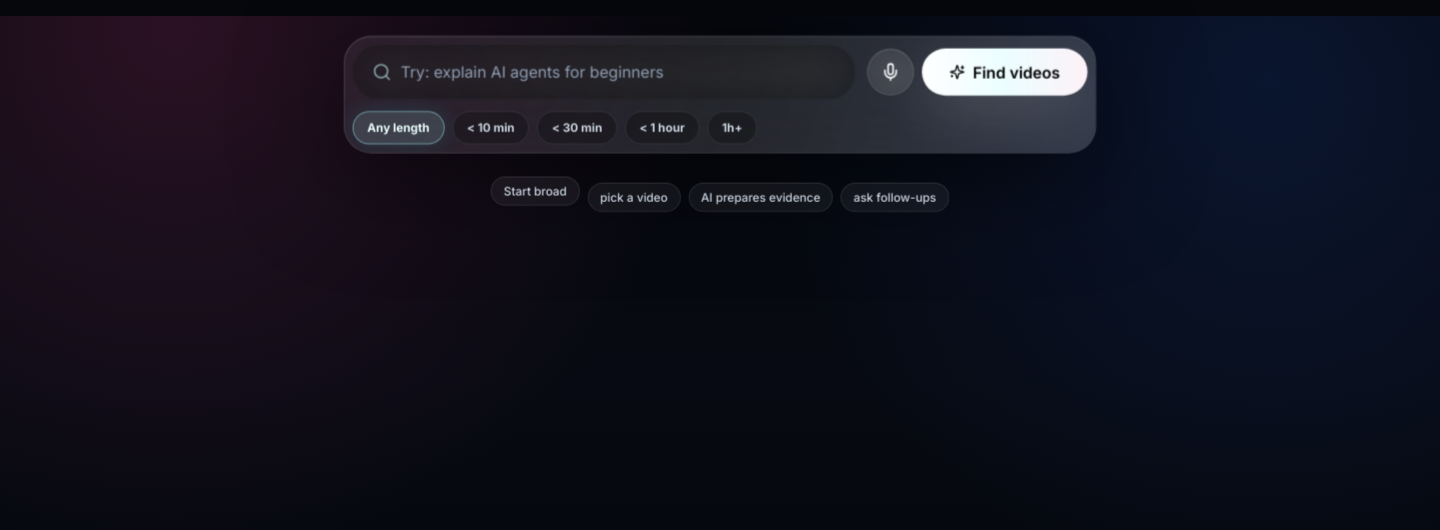
SearchConsole – voice input › Whisper fallback › shows microphone access denied when getUserMedia rejects
Click the button named "start voice search".
click(890, 72)  # box [867, 48, 914, 95]
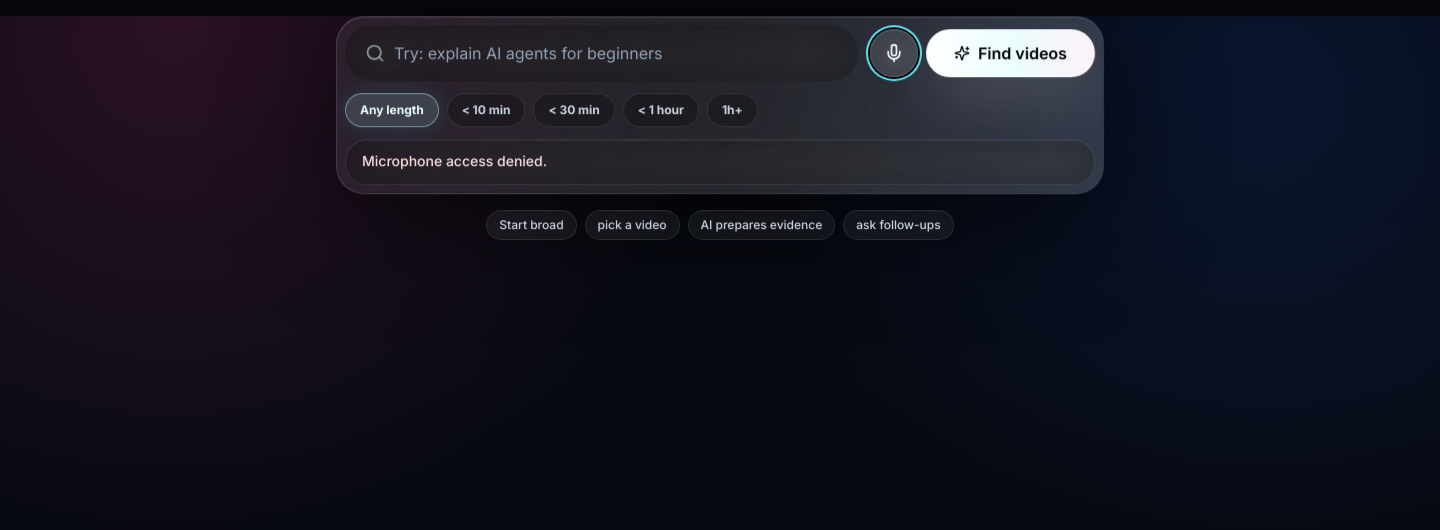
Expected: the text "Microphone access denied." is shown, [362, 153, 547, 170]
